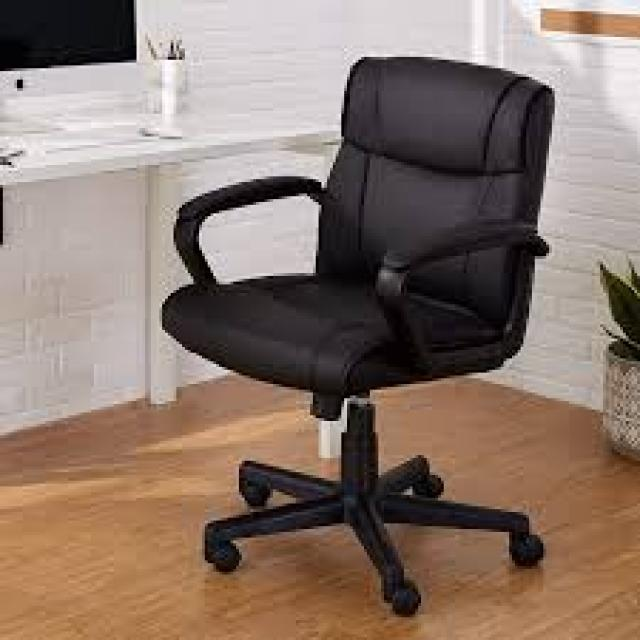chair: (131, 26, 576, 640)
